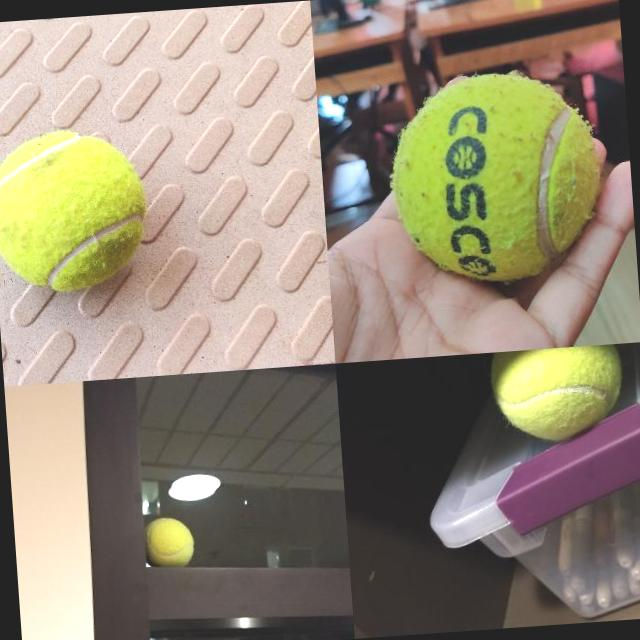Tennis Ball: (386, 66, 604, 288), (0, 125, 151, 295), (482, 343, 630, 452), (144, 514, 196, 566)
